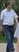boots: (0, 47, 7, 52), (0, 49, 7, 52)
hard-hat: (0, 9, 9, 22)
